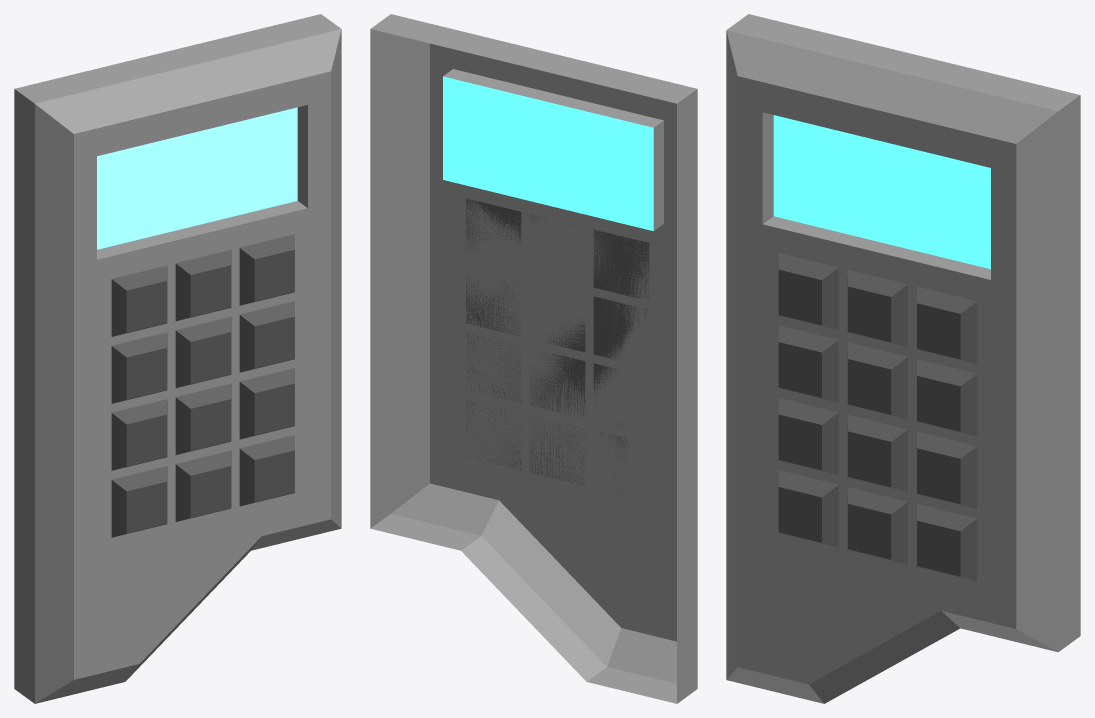
Rendered from SM_Keypad.fbx.
3 views of the same model, side by side, from view 1: azimuth 30°, elevation 25°; view 2: azimuth 150°, elevation 25°; view 3: azimuth 330°, elevation 25° (orthographic). The views are drawn at different scales.
Parts seen in each view (by area): view 1: SM_Keypad; view 2: SM_Keypad; view 3: SM_Keypad.
Part boxes in pixels (x1,y1,x2,y2): SM_Keypad: (14,14,341,703); SM_Keypad: (370,14,697,703); SM_Keypad: (726,14,1080,703).
Size of the model in its own units: 14.13 by 26.43 by 3.37.
